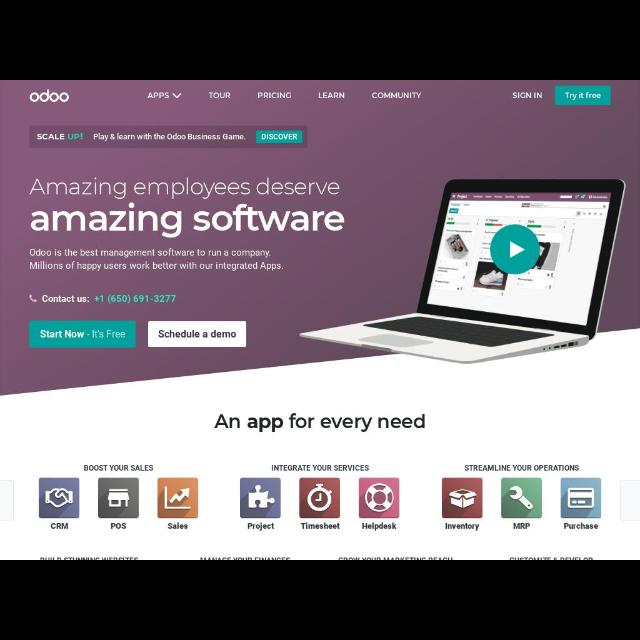icon: (168, 92, 184, 104), (28, 294, 38, 302)
image: (298, 168, 626, 372), (38, 476, 80, 518), (238, 476, 280, 518), (157, 479, 199, 519), (300, 478, 340, 520), (99, 478, 139, 518), (443, 478, 483, 518), (502, 479, 542, 519), (359, 477, 398, 517), (562, 477, 598, 517), (26, 88, 70, 104)
spinner: (145, 90, 183, 102)
text: (29, 203, 352, 239), (28, 248, 284, 272), (32, 180, 342, 198), (214, 414, 428, 430), (93, 133, 245, 143), (41, 292, 180, 302), (270, 464, 368, 472), (370, 89, 422, 101), (33, 130, 83, 142), (464, 466, 578, 470), (84, 465, 152, 471), (361, 521, 399, 531), (256, 90, 292, 100), (564, 522, 598, 532), (299, 522, 341, 530), (511, 90, 543, 100), (442, 522, 478, 530), (208, 88, 230, 100), (247, 522, 276, 530), (318, 90, 342, 98), (511, 522, 531, 530), (109, 520, 129, 528), (148, 92, 168, 100), (166, 524, 188, 530), (51, 526, 68, 530)
textbutton: (31, 320, 137, 346), (148, 320, 246, 348), (555, 85, 611, 106), (256, 131, 302, 143)
toolbar: (1, 80, 639, 114)
